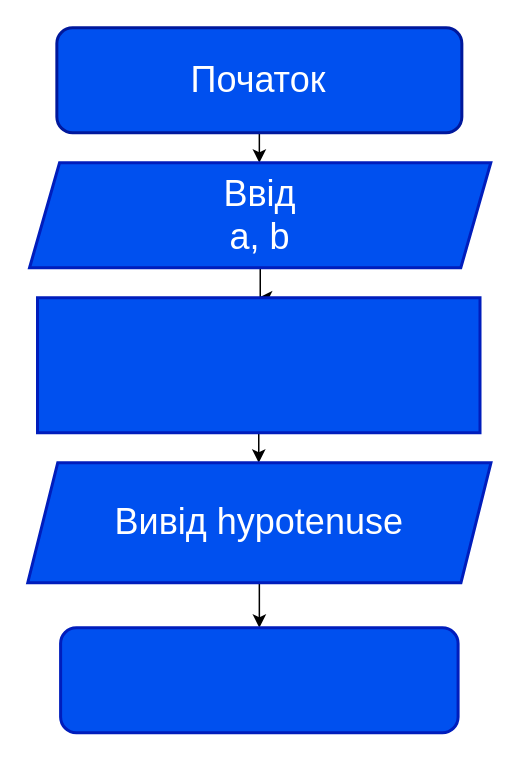
Some shapes in this 518 by 759 pixel diagram are drawn without their labels. The centre of each missing label's shape, as x and y in pixels:
"hypotenuse = √ (a^2 + a^b)" belongs at (x=258, y=365).
"Кінець" belongs at (x=258, y=680).
